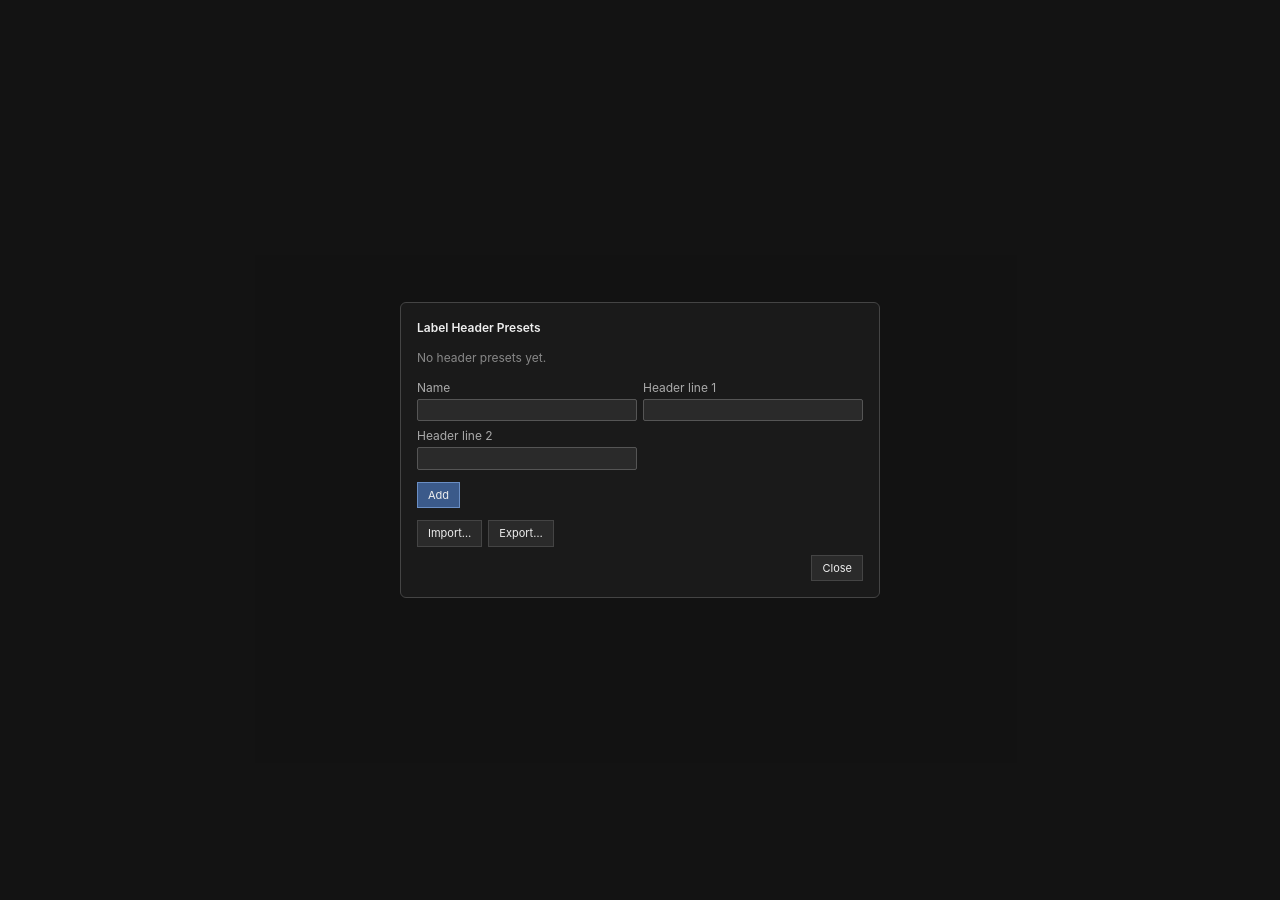
Test: LabelHeaderPresetsDialog › add fills the form and creates a preset via addLabelHeaderPreset
In the field labelled "Name": (527, 410) 417,399 -> 637,421, type "My Preset"
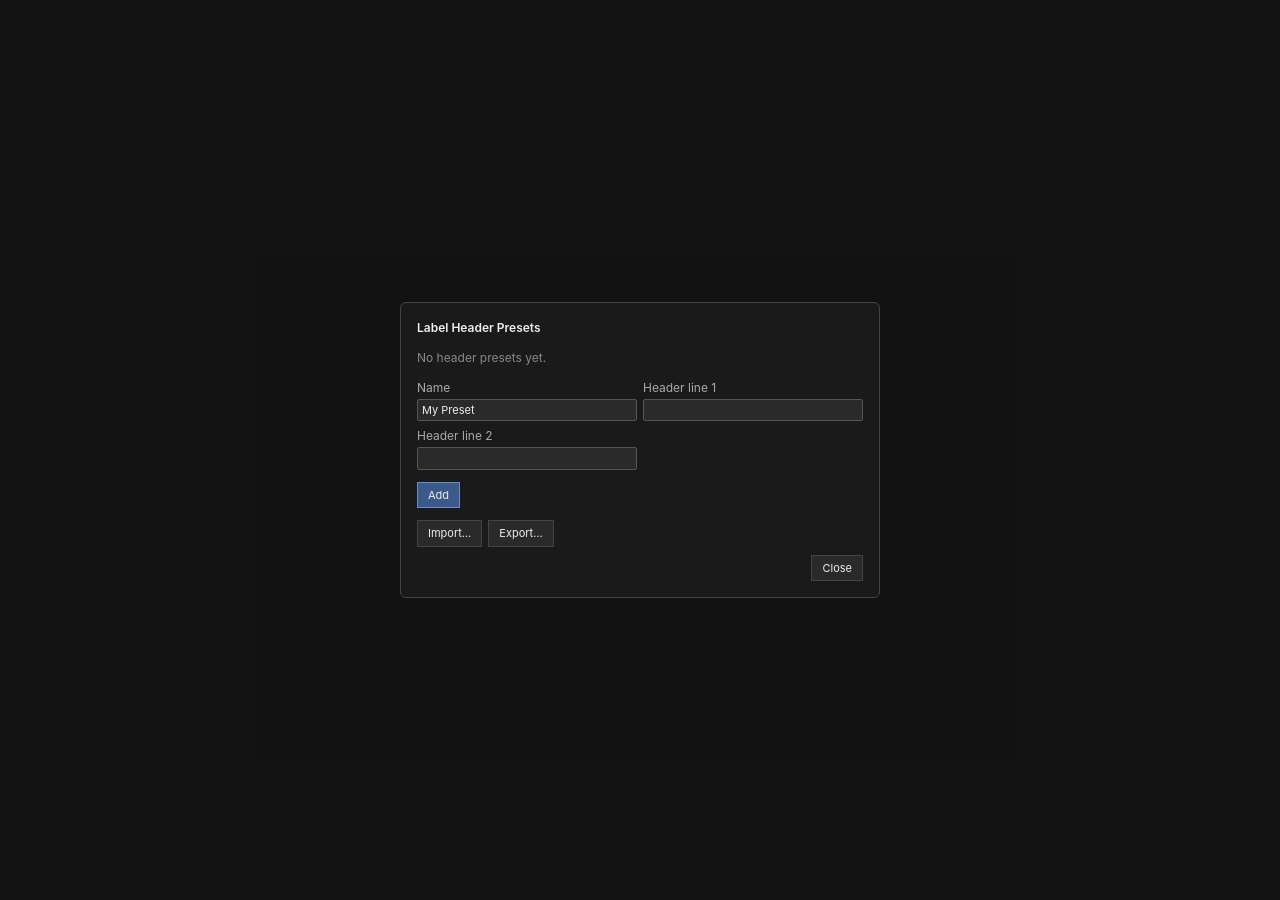
In the field labelled "Header line 1": (753, 410) 643,399 -> 863,421, type "Acme Cabinets"
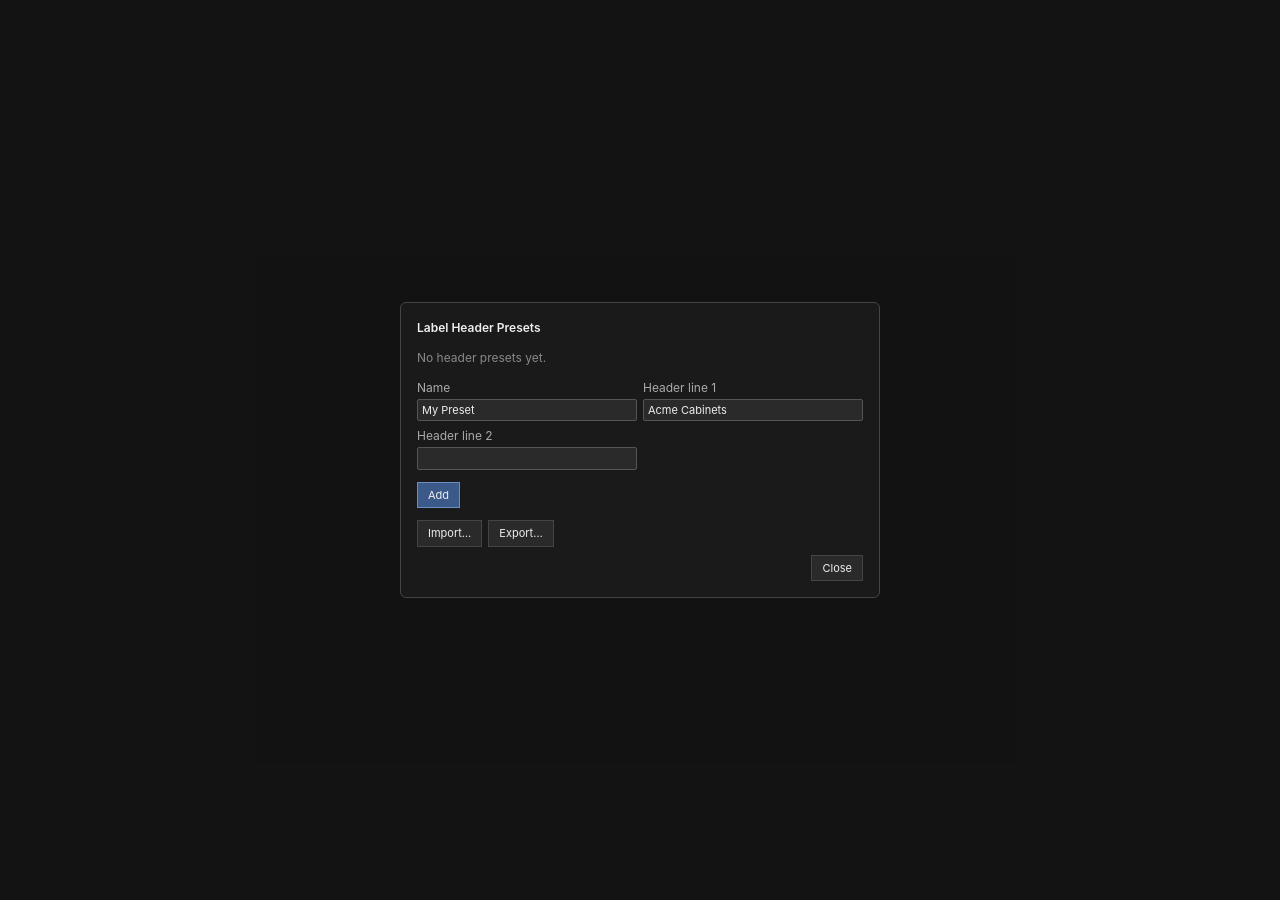
In the field labelled "Header line 2": (527, 459) 417,447 -> 637,470, type "Order #789"
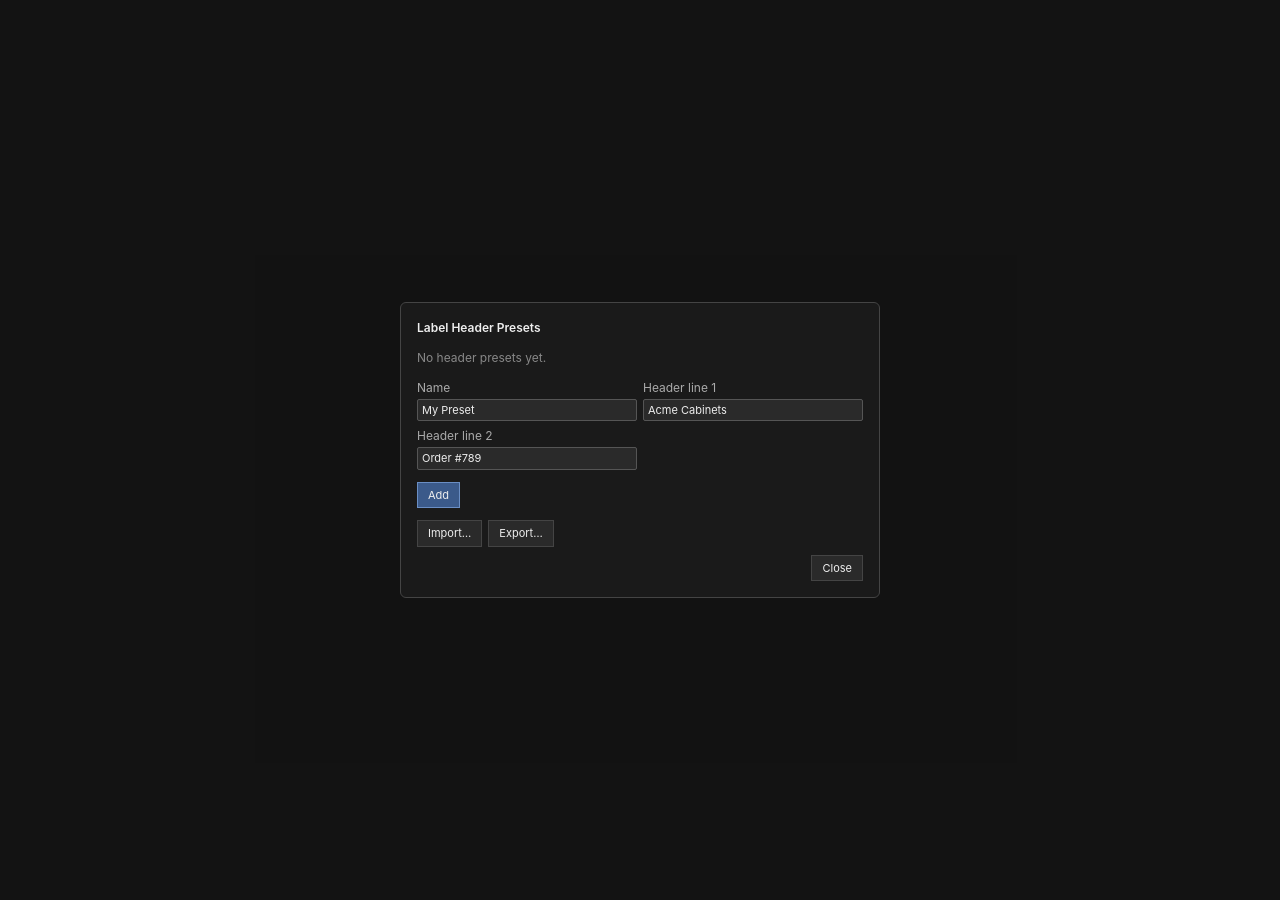
Click the button "Add": click(439, 495) 417,482 -> 460,508
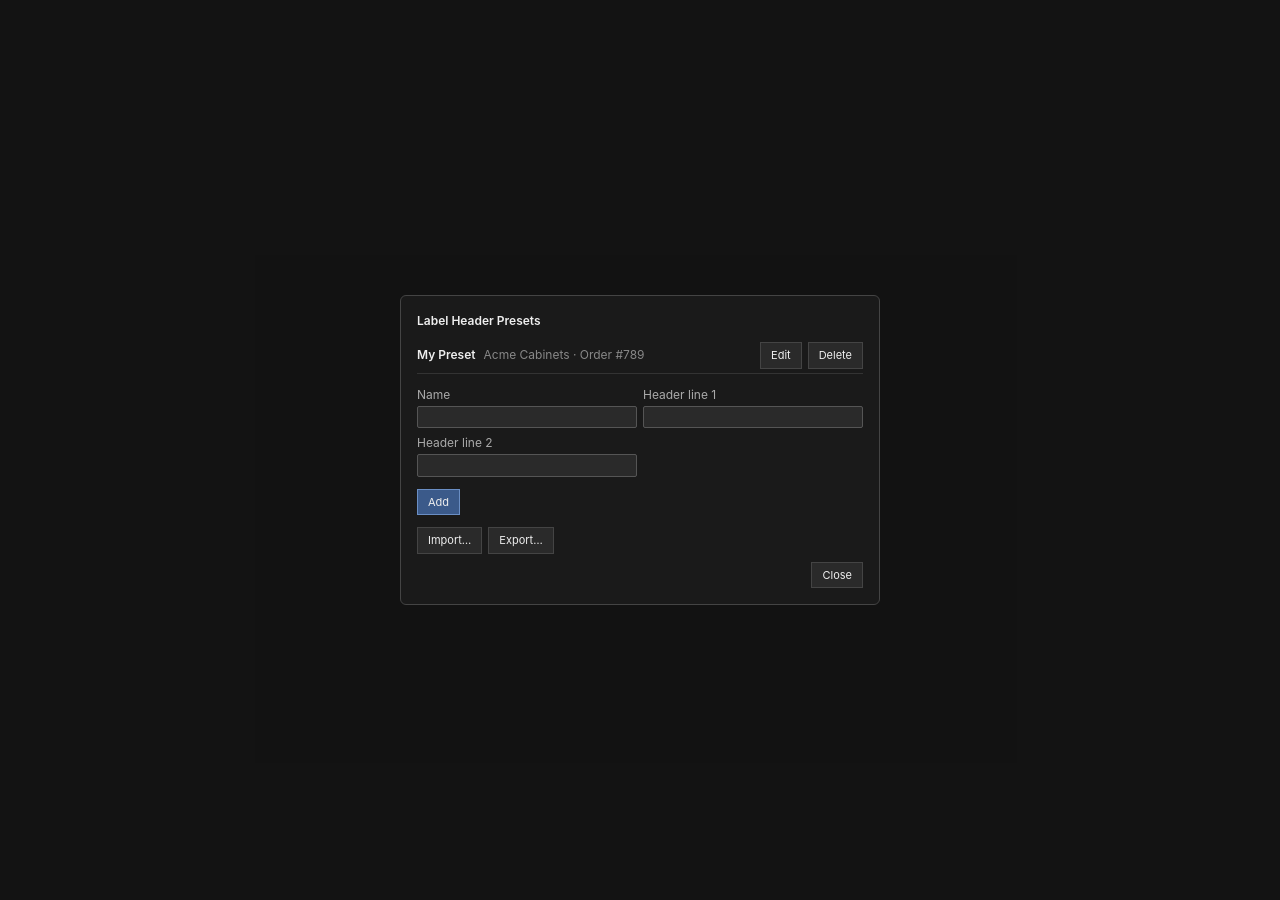
expect the text "My Preset" is shown: met, box 417,347 -> 476,362
